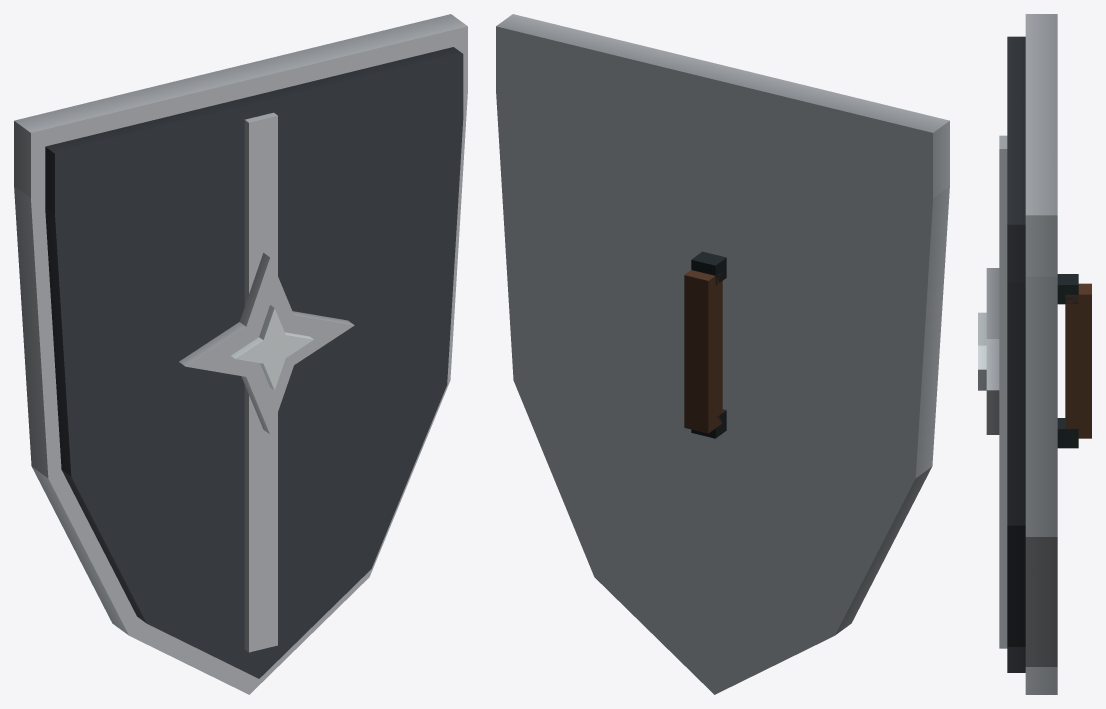
The model's file is knight_off_2.gltf.
3 renders of one model, left to right at view 1: azimuth 30°, elevation 25°; view 2: azimuth 150°, elevation 25°; view 3: azimuth 270°, elevation 25°, orthographic. The views are drawn at different scales.
Parts seen in each view (by area): view 1: knight_off_2; view 2: knight_off_2; view 3: knight_off_2.
Boxes of the visible parts, box(x1,y1,x2,y2) form: knight_off_2: box(14, 14, 467, 694); knight_off_2: box(496, 14, 949, 694); knight_off_2: box(978, 14, 1091, 694).
Bounding box in the file's own units: 0.8988 × 1.21 × 0.215.
Materials: 1 (1 with a texture image).
